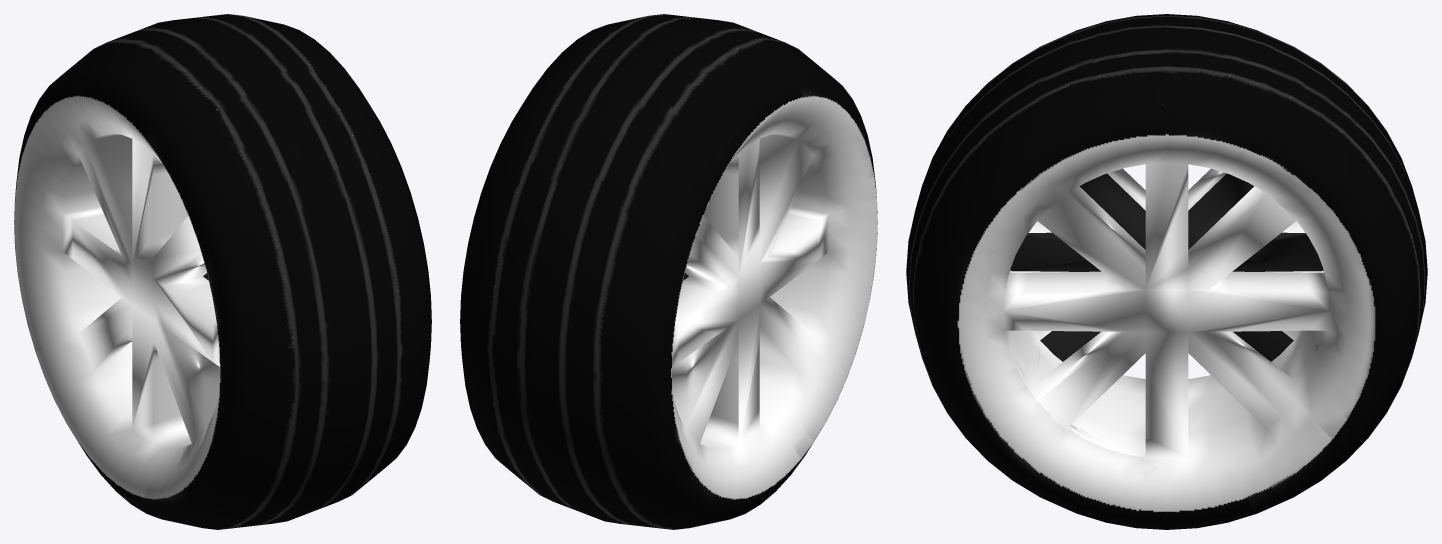
The model's file is wheelmodel.fbx.
3 renders of one model, left to right at view 1: azimuth 30°, elevation 25°; view 2: azimuth 150°, elevation 25°; view 3: azimuth 270°, elevation 25°, orthographic.
Parts seen in each view (by area): view 1: Torus.002; view 2: Torus.002; view 3: Torus.002.
Boxes of the visible parts, x1=… form: Torus.002: x1=14, y1=14, x2=431, y2=529; Torus.002: x1=460, y1=14, x2=877, y2=529; Torus.002: x1=906, y1=14, x2=1427, y2=529.
Size of the model in its own units: 119 by 250 by 250.
1 material, 1 textured.
